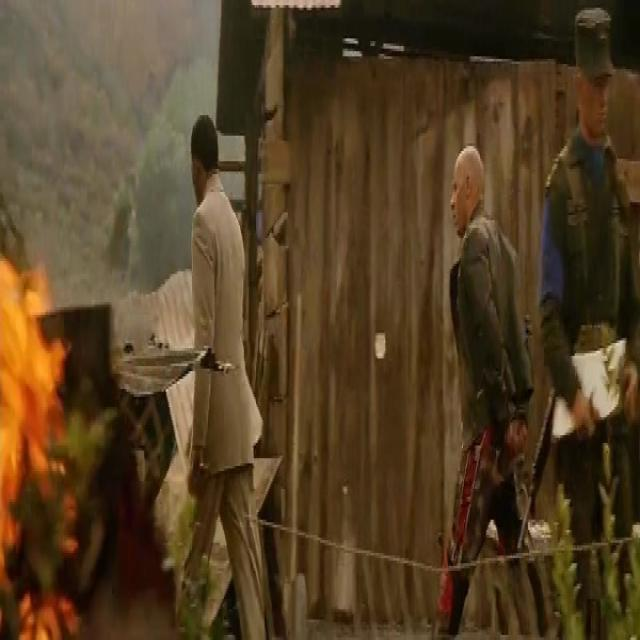rifle: (516, 377, 561, 564)
